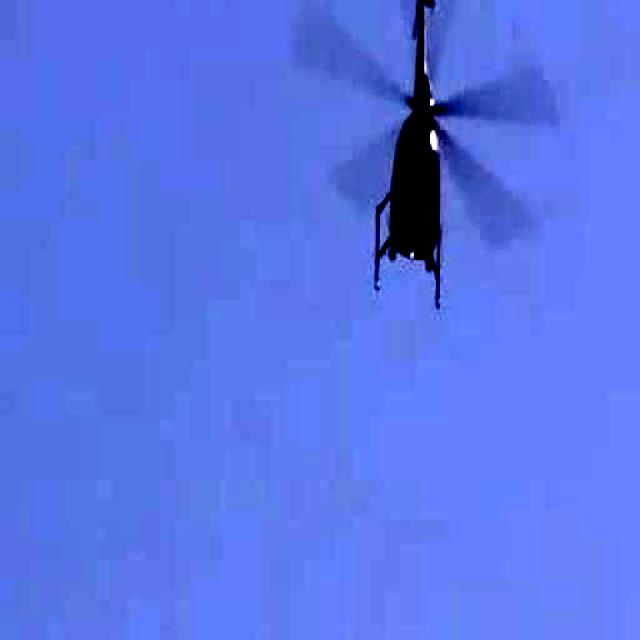drone: (268, 0, 581, 359)
